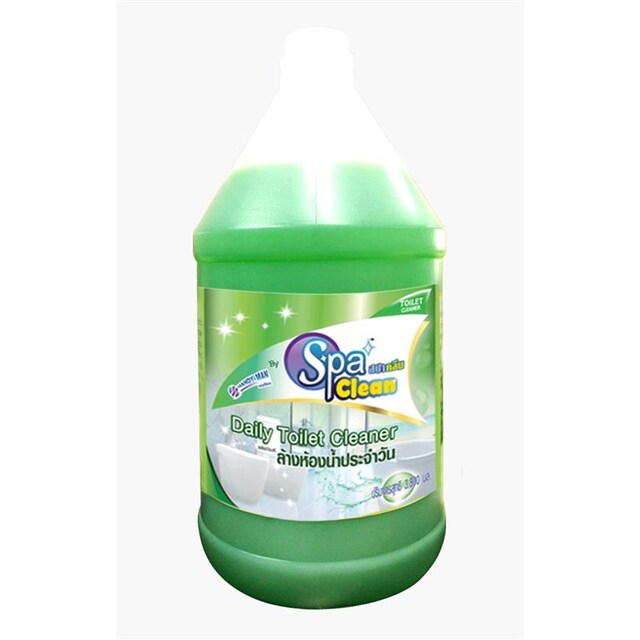Cleaning_solution: (185, 21, 453, 614)
